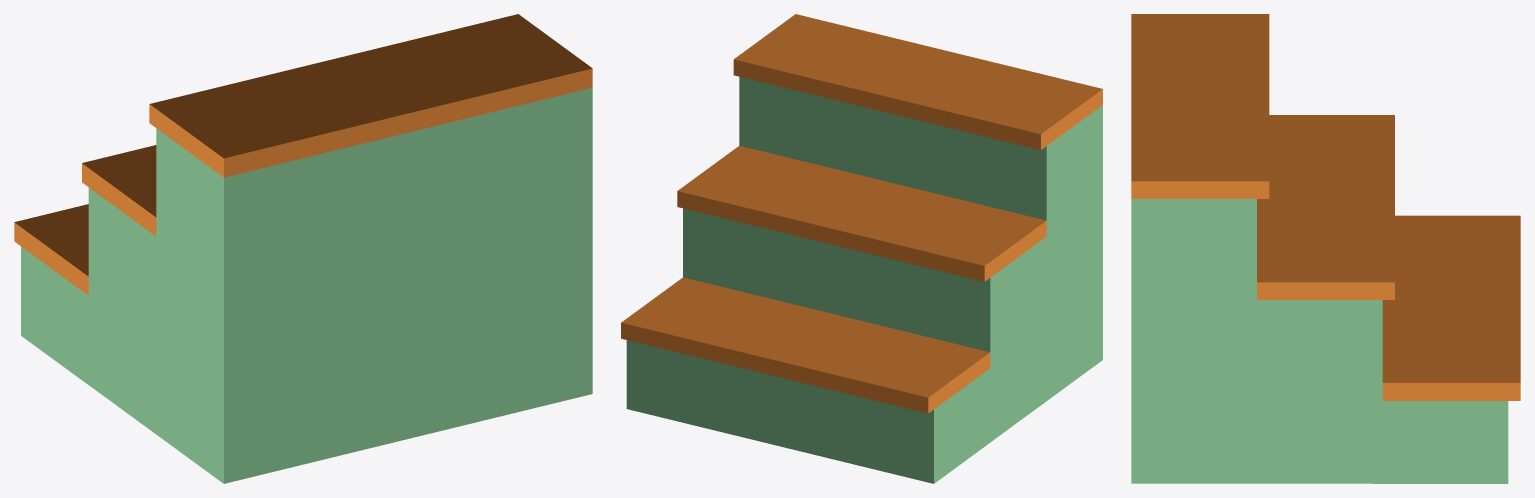
Rendered from Stairs 1.fbx.
3 renders of one model, left to right at view 1: azimuth 30°, elevation 25°; view 2: azimuth 150°, elevation 25°; view 3: azimuth 270°, elevation 25°, orthographic. The views are drawn at different scales.
Visible parts, largest first — view 1: Node 0; view 2: Node 0; view 3: Node 0.
Boxes of the visible parts, <box> form: Node 0: <box>14,14,592,483</box>; Node 0: <box>621,14,1102,483</box>; Node 0: <box>1131,14,1520,483</box>.
Size of the model in its own units: 0.4751 by 0.4073 by 0.4826.
